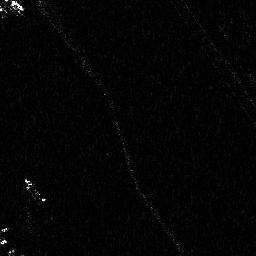ship: (21, 177, 45, 202)
